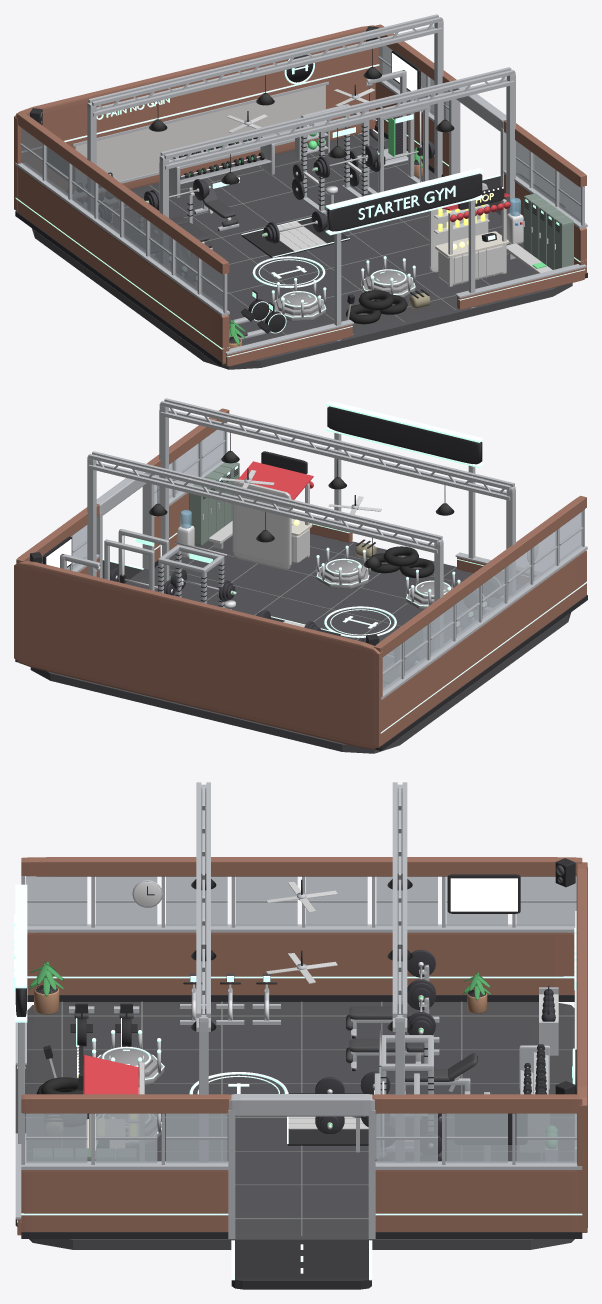
Rendered from dm_gym3z1starter.glb.
The picture shows the model from 3 angles, top to bottom: view 1: azimuth 30°, elevation 25°; view 2: azimuth 150°, elevation 25°; view 3: azimuth 270°, elevation 25°; orthographic projection. The views are drawn at different scales.
Parts seen in each view (by area): view 1: Z1_Rubber_Floor, Z1_Brick_BackWall, Z1_Brick_Wall, Z1_Glass_Mirror, Z1_Brick_WallTop, Z1_SmoothPlastic_ZoneSign, Z1_Metal_Truss, Z1_Metal_Truss.004, Z1_Metal_Truss.002, Z1_Metal_Truss.006, Z1_Metal_WallTrim, Z1_Brick_Parapet.001 (+54 smaller); view 2: Z1_Brick_BackWall, Z1_Rubber_Floor, Z1_Brick_Wall, Z1_Brick_WallTop, Z1_SmoothPlastic_ZoneSign, Z1_WoodPlanks_KioskBack, Z1_Metal_Truss.001, Z1_Metal_Truss.005, Z1_Metal_Truss.003, Z1_Metal_Truss.007, Z1_Metal_WallTrim, Z1_Metal_Truss (+33 smaller); view 3: Z1_Rubber_Floor, Z1_Brick_Wall, Z1_Brick_Wall.001, Z1_Brick_Wall.002, Z1_Brick_WallTop, Z1_Rubber_Walkway, Z1_Brick_BackWall, Z1_Brick_WallTop.001, Z1_Metal_WallTrim, Z1_Brick_WallTop.002, Z1_Metal_DoorHeader, Z1_Glass_Window.008 (+38 smaller).
Boxes of the visible parts, bbox=[...] form: Z1_Rubber_Floor: bbox=[32, 134, 572, 369]; Z1_Brick_BackWall: bbox=[14, 25, 381, 211]; Z1_Brick_Wall: bbox=[16, 167, 229, 363]; Z1_Glass_Mirror: bbox=[75, 85, 325, 181]; Z1_Brick_WallTop: bbox=[16, 112, 229, 274]; Z1_SmoothPlastic_ZoneSign: bbox=[327, 173, 482, 231]; Z1_Metal_Truss: bbox=[164, 70, 514, 159]; Z1_Metal_Truss.004: bbox=[92, 17, 442, 106]; Z1_Metal_Truss.002: bbox=[165, 80, 514, 169]; Z1_Metal_Truss.006: bbox=[93, 28, 442, 116]; Z1_Metal_WallTrim: bbox=[15, 162, 229, 316]; Z1_Brick_Parapet.001: bbox=[457, 267, 584, 309]; Z1_Brick_BackWall: bbox=[14, 560, 382, 749]; Z1_Rubber_Floor: bbox=[30, 533, 571, 753]; Z1_Brick_Wall: bbox=[378, 550, 586, 747]; Z1_Brick_WallTop: bbox=[374, 495, 586, 656]; Z1_SmoothPlastic_ZoneSign: bbox=[327, 406, 482, 464]; Z1_WoodPlanks_KioskBack: bbox=[232, 481, 291, 570]; Z1_Metal_Truss.001: bbox=[160, 401, 511, 490]; Z1_Metal_Truss.005: bbox=[88, 454, 438, 543]; Z1_Metal_Truss.003: bbox=[160, 412, 510, 500]; Z1_Metal_Truss.007: bbox=[88, 464, 437, 553]; Z1_Metal_WallTrim: bbox=[380, 545, 587, 699]; Z1_Metal_Truss: bbox=[164, 398, 514, 486]; Z1_Rubber_Floor: bbox=[15, 1002, 574, 1249]; Z1_Brick_Wall: bbox=[27, 932, 574, 994]; Z1_Brick_Wall.001: bbox=[21, 1170, 228, 1231]; Z1_Brick_Wall.002: bbox=[375, 1170, 581, 1231]; Z1_Brick_WallTop: bbox=[21, 857, 582, 876]; Z1_Rubber_Walkway: bbox=[231, 1241, 371, 1289]; Z1_Brick_BackWall: bbox=[576, 862, 587, 1232]; Z1_Brick_WallTop.001: bbox=[21, 1094, 231, 1113]; Z1_Metal_WallTrim: bbox=[27, 924, 575, 932]; Z1_Brick_WallTop.002: bbox=[372, 1094, 582, 1113]; Z1_Metal_DoorHeader: bbox=[229, 1094, 374, 1116]; Z1_Glass_Window.008: bbox=[25, 1113, 87, 1163].
Size of the model in its own units: 47.47 by 18.28 by 40.93.
